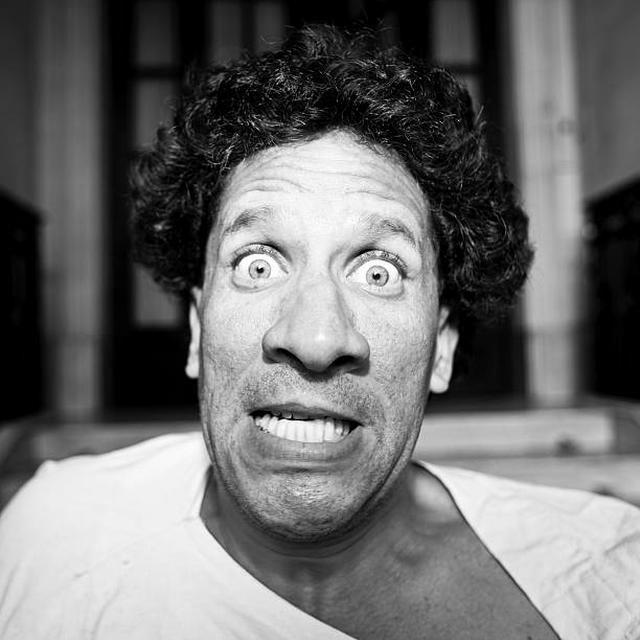Fear: (215, 136, 432, 540)
